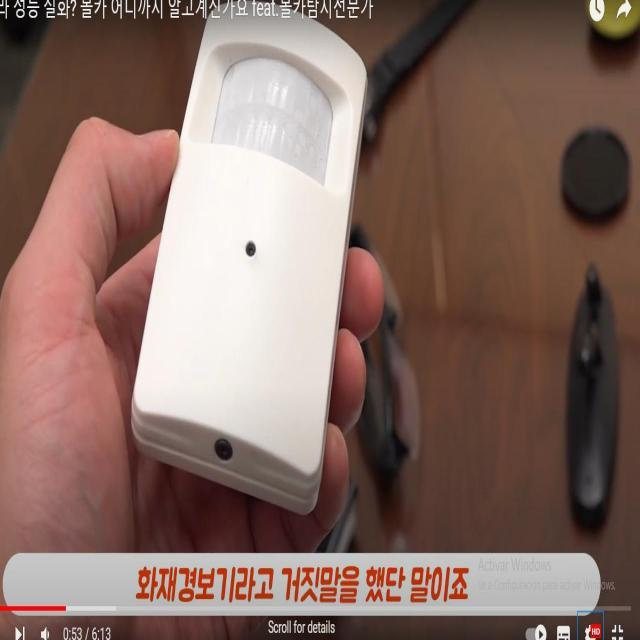hidden camera: (239, 228, 262, 273)
